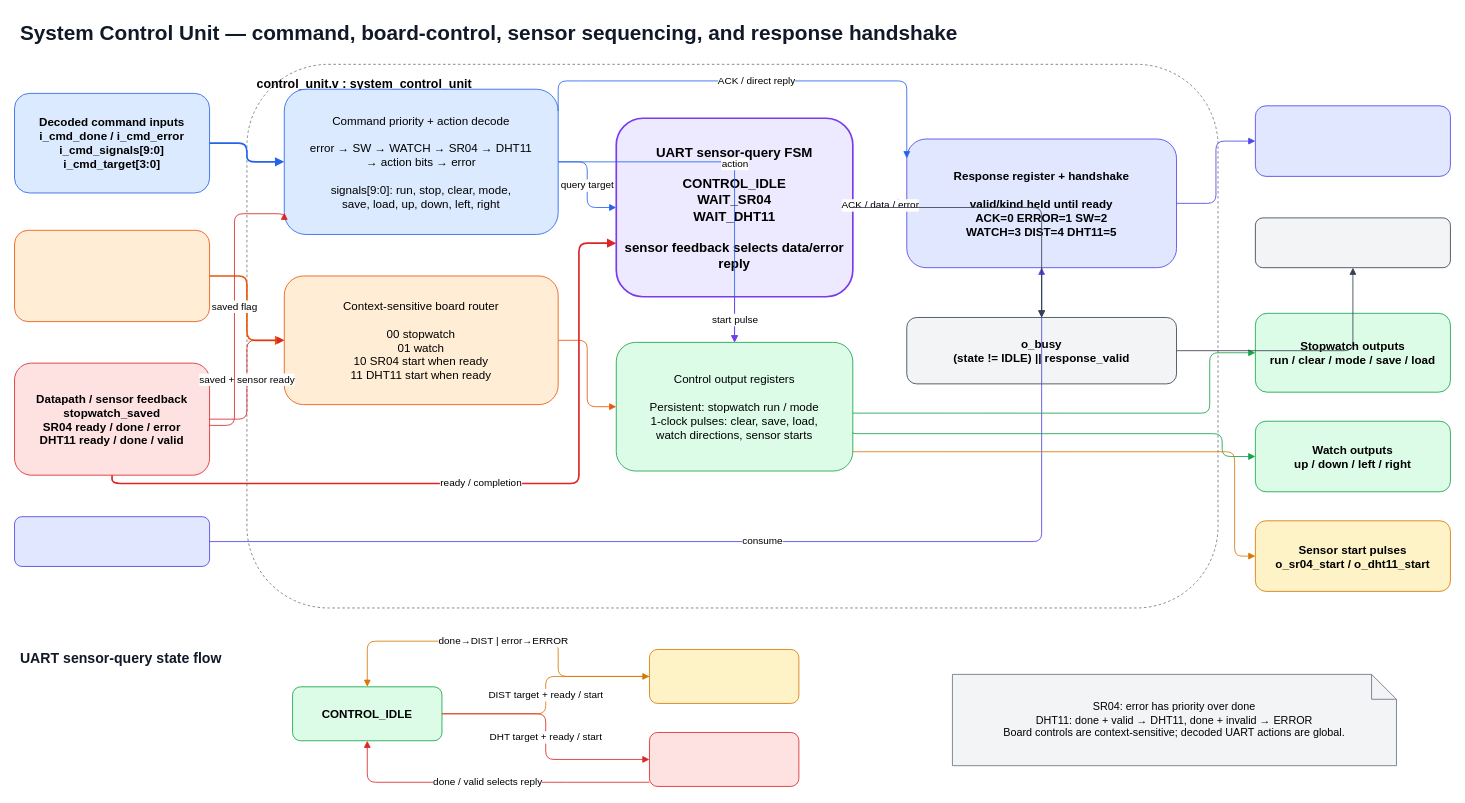
The diagram is 1465 pixels wide and 803 high, and some of its shapes have lost their labels. Each missing label, with the centre of its shape:
Board control inputs i_mode_select[1:0] left / right / up / down: pixel 112 275
i_response_ready: pixel 112 541
o_busy: pixel 1352 242
Response outputs o_response_valid / kind[2:0]: pixel 1352 140
WAIT_DHT11: pixel 724 759
WAIT_SR04: pixel 724 676
